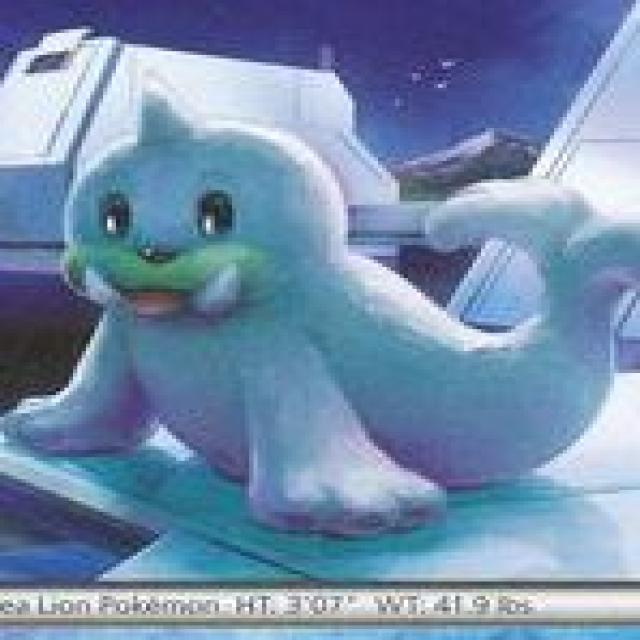Seel: (44, 110, 573, 520)
